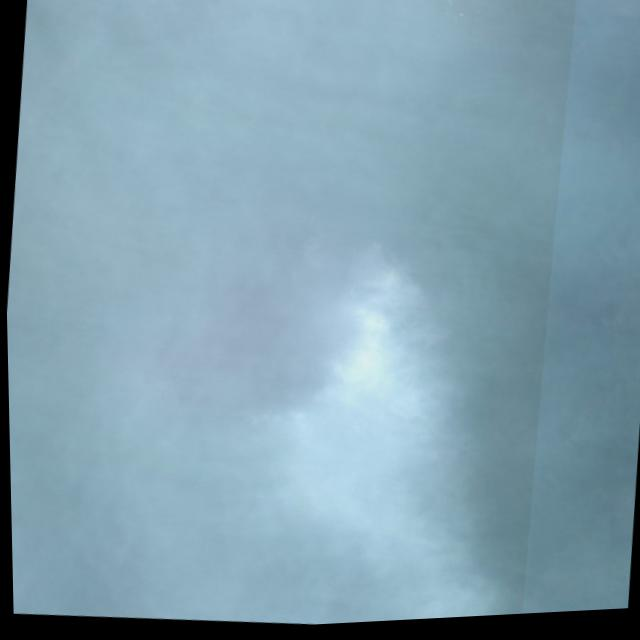fire: (243, 199, 437, 448)
